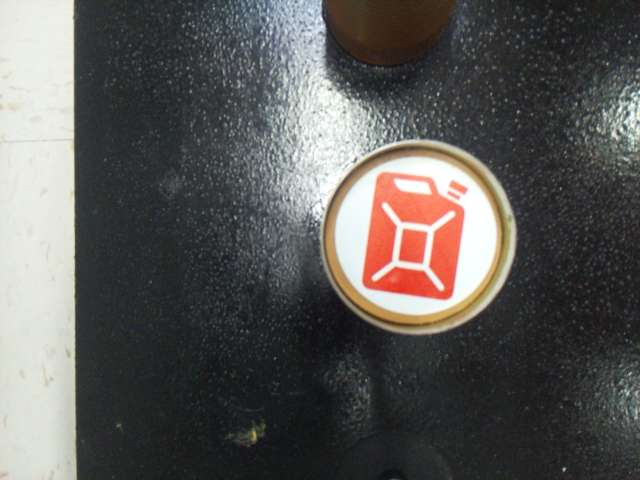gasoline: (335, 157, 495, 313)
